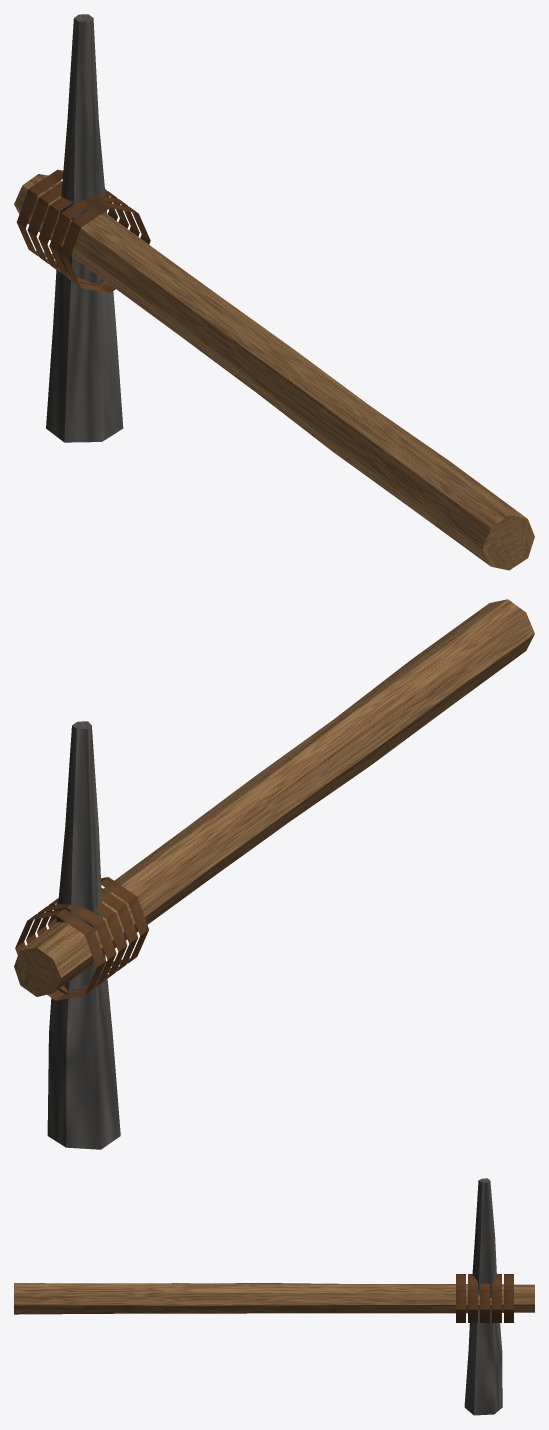
The model's file is TOOL_StonePick.fbx.
3 views of the same model, one above another, from view 1: azimuth 30°, elevation 25°; view 2: azimuth 150°, elevation 25°; view 3: azimuth 270°, elevation 25° (orthographic). The views are drawn at different scales.
Parts seen in each view (by area): view 1: TOOL_StonePick; view 2: TOOL_StonePick; view 3: TOOL_StonePick.
Boxes of the visible parts, x1,y1,x2,y2 form: TOOL_StonePick: (14, 14, 534, 570); TOOL_StonePick: (14, 599, 534, 1149); TOOL_StonePick: (14, 1178, 534, 1415).
Size of the model in its own units: 0.052 by 0.25 by 0.52.
